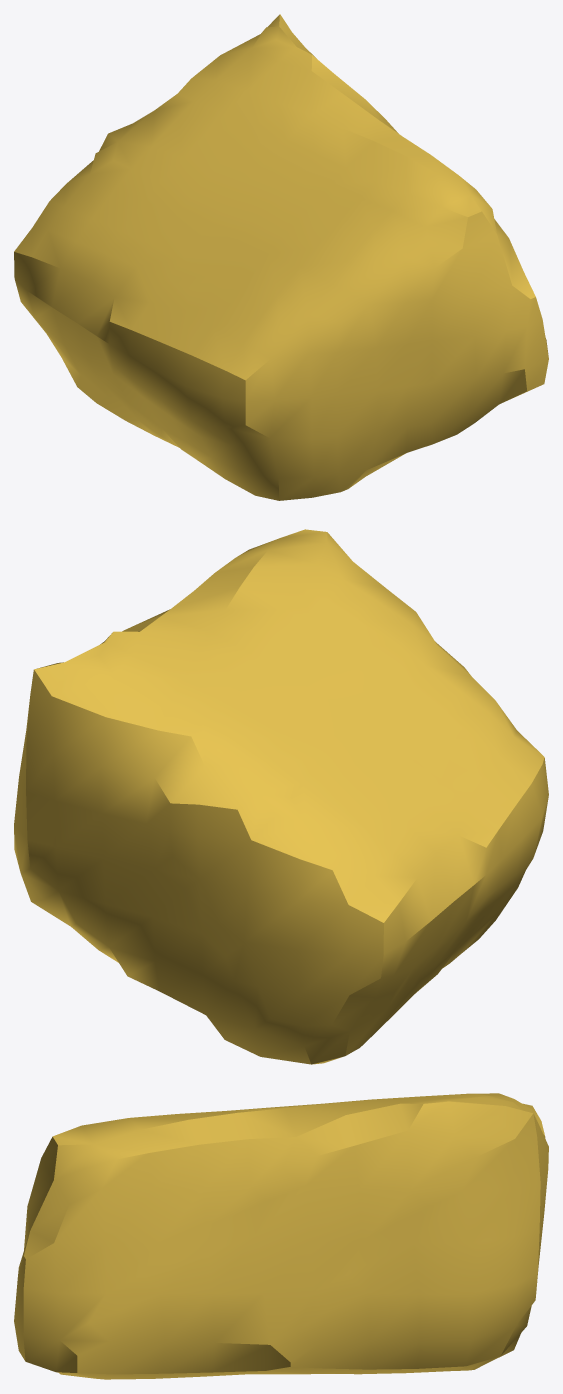
File: chickenPiece.glb
3 views of the same model, one above another, from view 1: azimuth 30°, elevation 25°; view 2: azimuth 150°, elevation 25°; view 3: azimuth 270°, elevation 25° (orthographic). The views are drawn at different scales.
Visible parts, largest first — view 1: 雞肉.002; view 2: 雞肉.002; view 3: 雞肉.002.
Boxes of the visible parts, x1,y1,x2,y2 form: 雞肉.002: (14,14,548,500); 雞肉.002: (14,529,548,1064); 雞肉.002: (14,1093,548,1379).
Bounding box in the file's own units: 0.8131 × 0.723 × 1.01.
